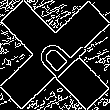P_SW: (24, 24, 86, 86)
